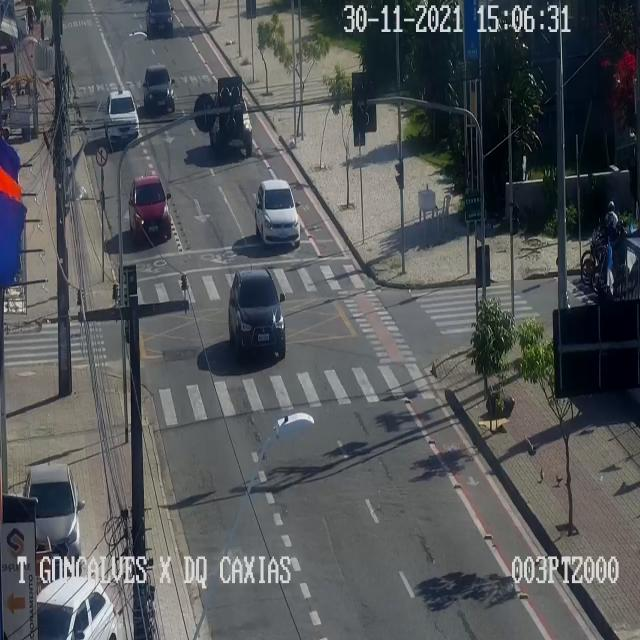Car: (24, 463, 80, 573), (37, 576, 117, 639), (228, 268, 285, 356), (254, 180, 300, 246), (208, 91, 252, 156), (128, 175, 170, 237), (103, 90, 139, 141), (143, 65, 174, 110), (146, 0, 175, 37)
Motorcycle: (582, 212, 626, 282), (581, 200, 625, 268), (591, 220, 629, 290)
